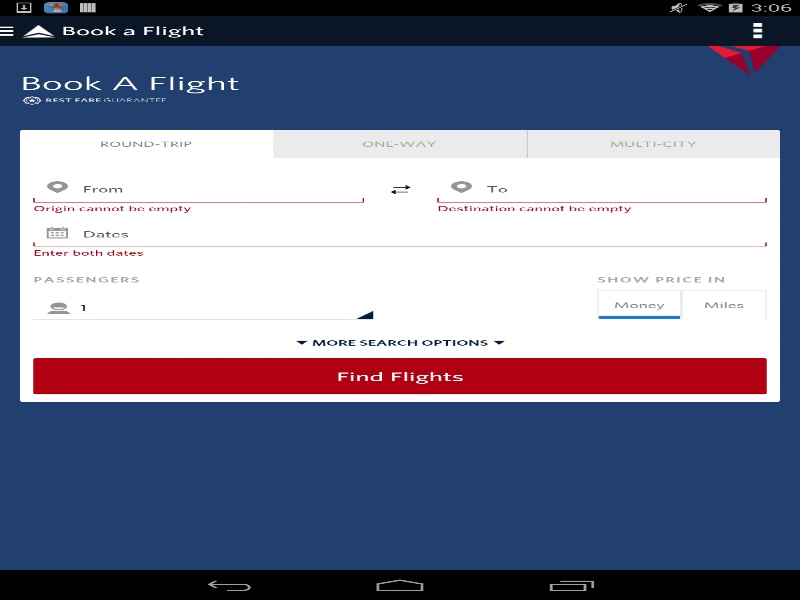Button: (33, 358, 766, 394), (714, 15, 800, 45)
Input: (33, 222, 781, 246), (437, 176, 776, 201), (33, 176, 370, 201)
